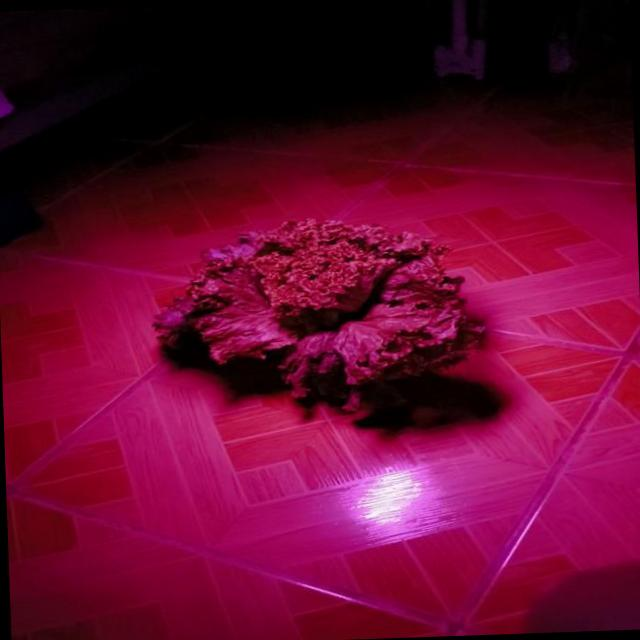Lettuce-Ready-to-Harvest: (154, 219, 483, 409)
